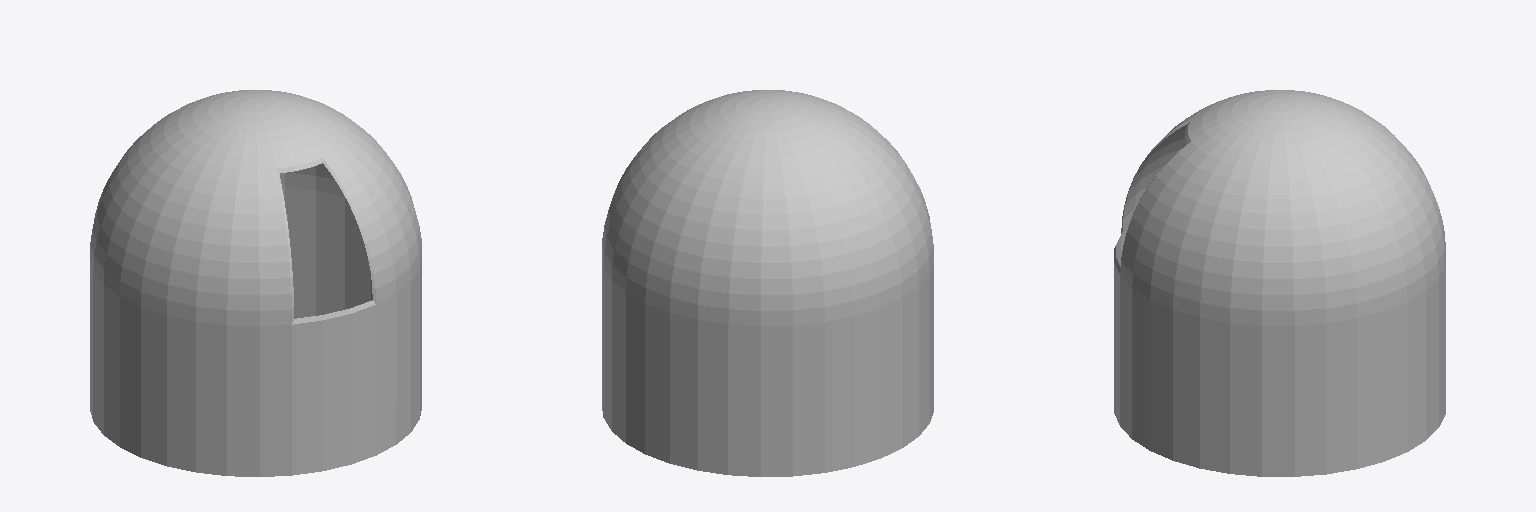
The model's file is cannon-base.obj.
3 renders of one model, left to right at view 1: azimuth 30°, elevation 25°; view 2: azimuth 150°, elevation 25°; view 3: azimuth 270°, elevation 25°, orthographic.
Bounding box in the file's own units: 1.99 × 2 × 1.99.